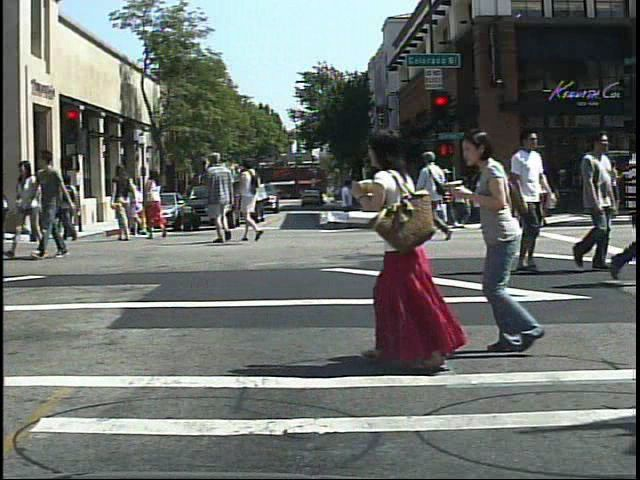person: (454, 120, 568, 364), (355, 123, 460, 378), (487, 127, 555, 278), (573, 127, 635, 280), (601, 127, 639, 284), (33, 144, 73, 261), (417, 144, 461, 247), (6, 159, 47, 262), (201, 150, 240, 246), (238, 156, 266, 245), (110, 165, 138, 242), (26, 168, 52, 246), (142, 166, 168, 241), (58, 170, 83, 247), (477, 166, 502, 234), (433, 162, 457, 230)
